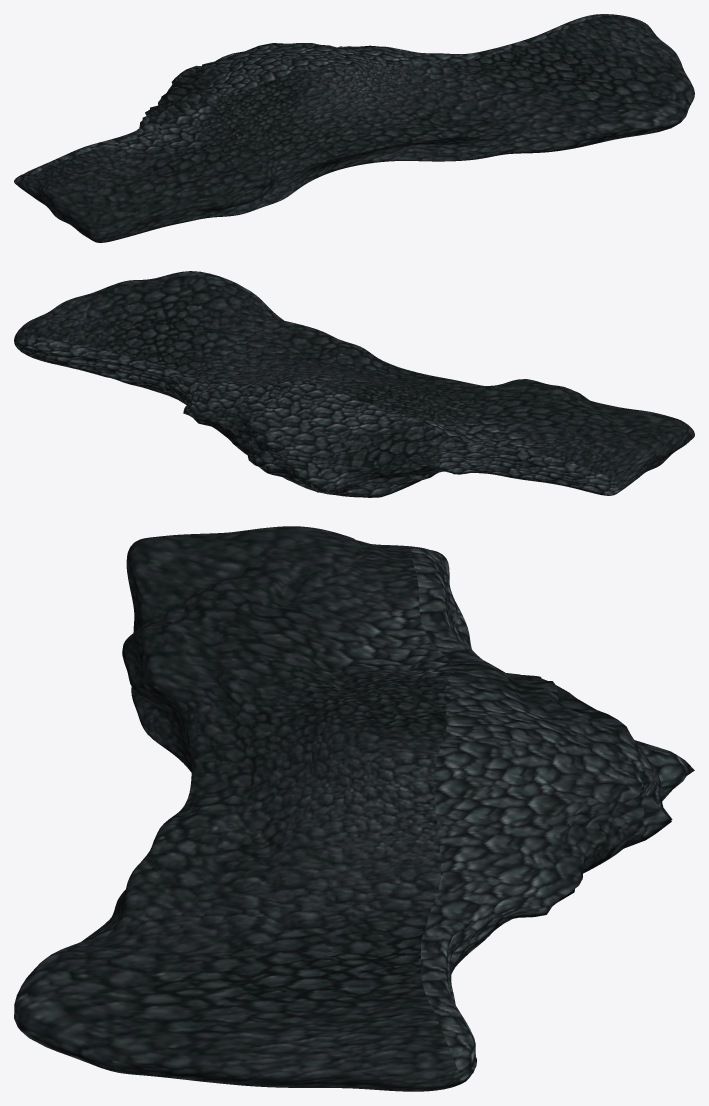
File: FP3_thin.fbx
3 views of the same model, one above another, from view 1: azimuth 30°, elevation 25°; view 2: azimuth 150°, elevation 25°; view 3: azimuth 270°, elevation 25° (orthographic). The views are drawn at different scales.
Parts seen in each view (by area): view 1: Straight_Piece_A; view 2: Straight_Piece_A; view 3: Straight_Piece_A.
Boxes of the visible parts, x1,y1,x2,y2 form: Straight_Piece_A: [14, 14, 694, 242]; Straight_Piece_A: [14, 271, 694, 497]; Straight_Piece_A: [14, 526, 694, 1091].
Bounding box in the file's own units: 529 × 55.91 × 272.
